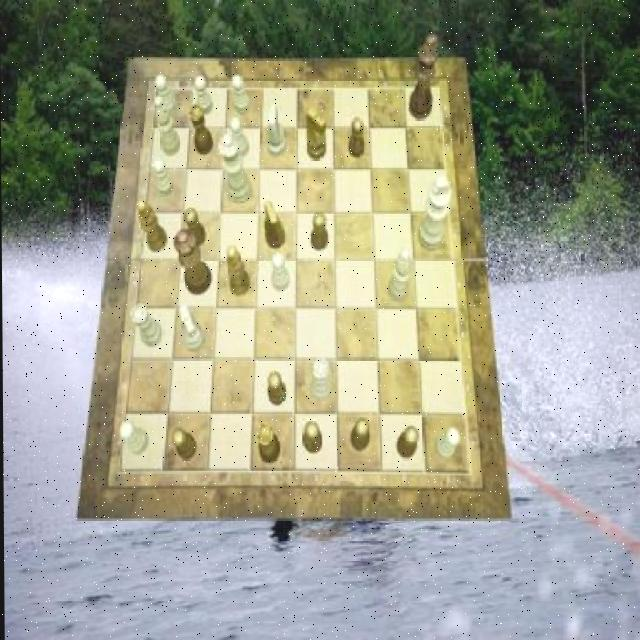bishop: (136, 198, 166, 252), (226, 244, 249, 296)
black-bishop: (409, 34, 439, 120)
black-king: (305, 108, 325, 160), (263, 202, 284, 249)
black-knight: (183, 208, 206, 246), (170, 428, 195, 460), (395, 424, 418, 458), (348, 418, 369, 452), (310, 212, 328, 251), (301, 421, 321, 454), (348, 117, 364, 158), (267, 371, 285, 405)
black-pawn: (173, 230, 211, 296)
black-queen: (190, 105, 213, 157), (256, 423, 280, 465)
black-rook: (153, 97, 179, 157), (387, 248, 411, 302)
white-bishop: (417, 176, 451, 252)
white-king: (177, 306, 204, 354), (265, 104, 285, 158)
white-knight: (118, 422, 147, 456), (153, 75, 176, 117), (433, 428, 458, 462), (193, 77, 213, 117), (153, 157, 174, 195), (229, 117, 248, 157), (232, 75, 250, 114), (270, 254, 288, 292)
white-pawn: (218, 134, 252, 203)
white-queen: (130, 305, 162, 347), (309, 358, 332, 402)
